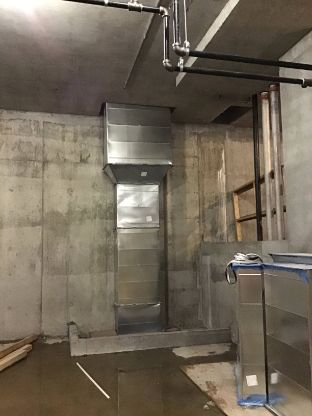Duct: (91, 87, 180, 339), (222, 238, 312, 416)
